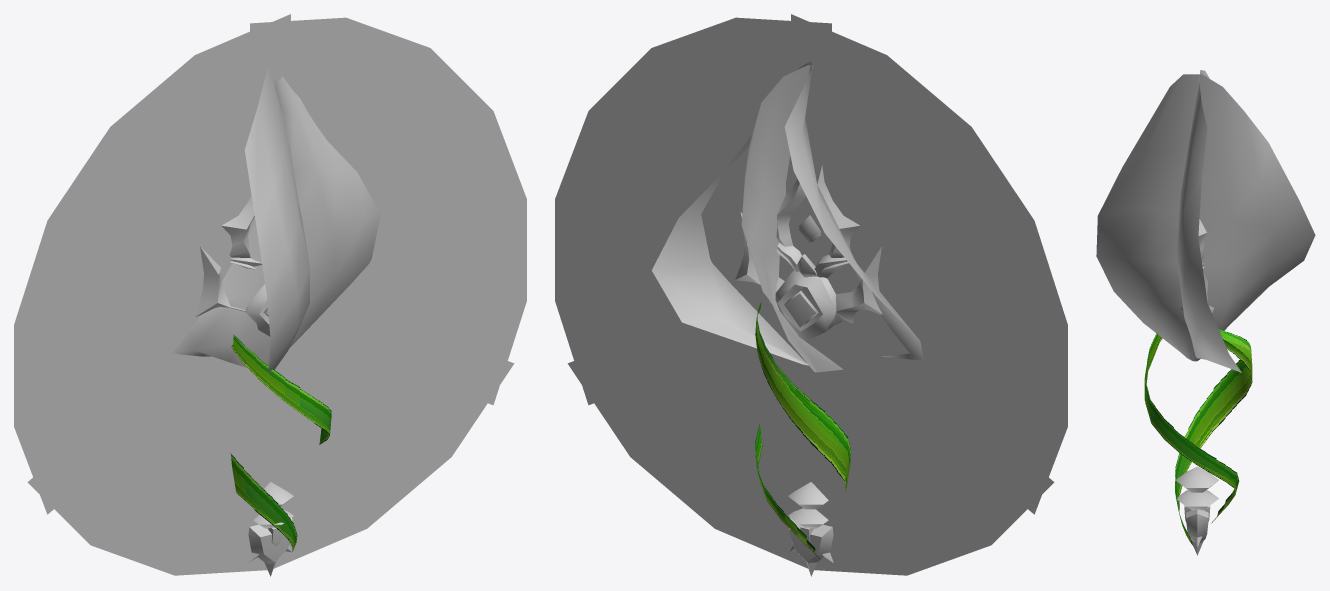
The model's file is xianzhezhizhang_effect.FBX.
3 renders of one model, left to right at view 1: azimuth 30°, elevation 25°; view 2: azimuth 150°, elevation 25°; view 3: azimuth 270°, elevation 25°, orthographic. The views are drawn at different scales.
Parts seen in each view (by area): view 1: effect; view 2: effect; view 3: effect.
Part boxes in pixels (x1=…): effect: x1=14, y1=14, x2=526, y2=576; effect: x1=555, y1=14, x2=1067, y2=576; effect: x1=1096, y1=70, x2=1315, y2=555.
Bounding box in the file's own units: 1.17 × 1.21 × 0.4592.
